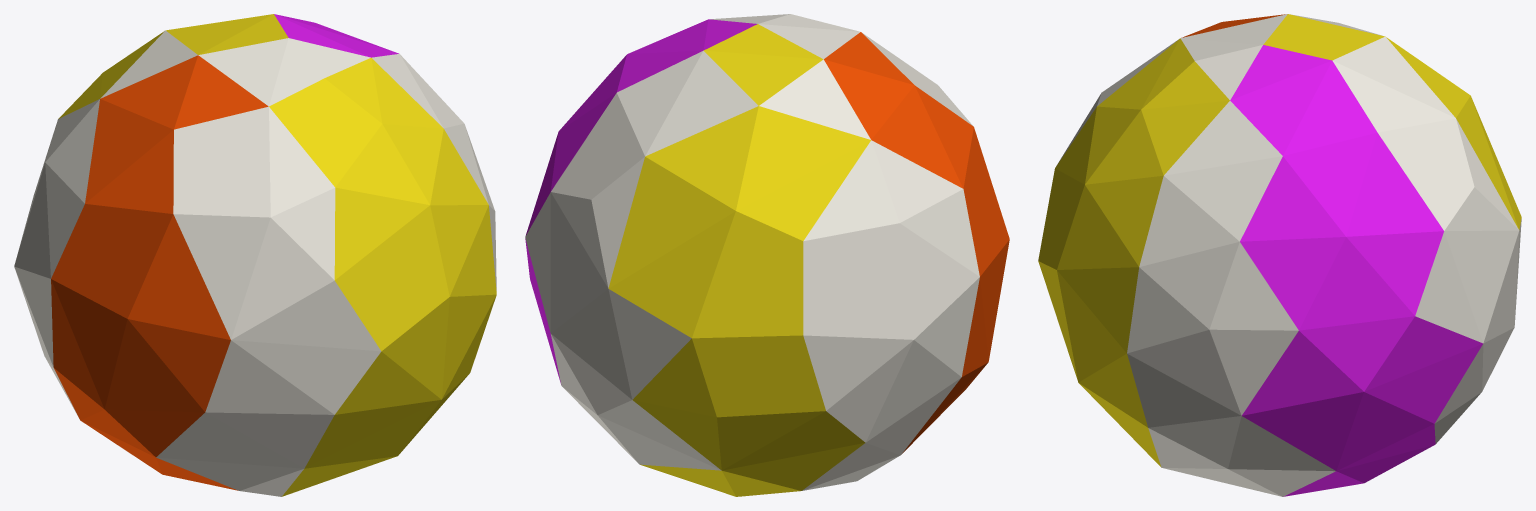
Rendered from Beach Ball.glb.
3 views of the same model, side by side, from view 1: azimuth 30°, elevation 25°; view 2: azimuth 150°, elevation 25°; view 3: azimuth 270°, elevation 25° (orthographic).
Parts seen in each view (by area): view 1: Beach Ball; view 2: Beach Ball; view 3: Beach Ball.
Part boxes in pixels (x1=…): Beach Ball: x1=14, y1=14, x2=496, y2=496; Beach Ball: x1=525, y1=14, x2=1009, y2=496; Beach Ball: x1=1038, y1=14, x2=1521, y2=496.
Size of what is drawn, in the model's own units: 0.5016 by 0.5016 by 0.5025.
